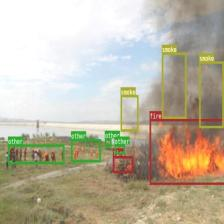fire: (149, 119, 224, 184), (113, 156, 133, 172)
smoke: (198, 61, 224, 127), (162, 52, 186, 118), (121, 95, 138, 131)
